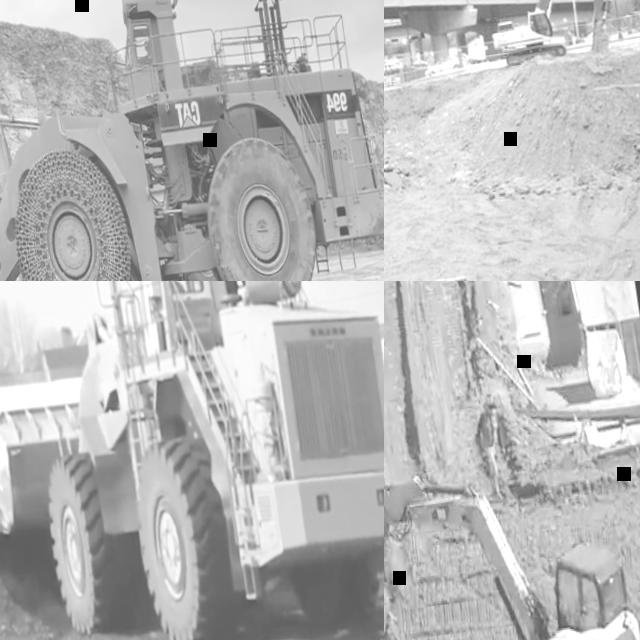Person: (471, 396, 509, 500), (136, 39, 152, 61), (166, 281, 185, 293)
Safety Cone: (390, 76, 396, 86), (384, 77, 387, 87)
machinery: (0, 281, 384, 640), (0, 0, 384, 281), (384, 422, 640, 640), (481, 0, 624, 72)
vehicle: (421, 52, 465, 76)
